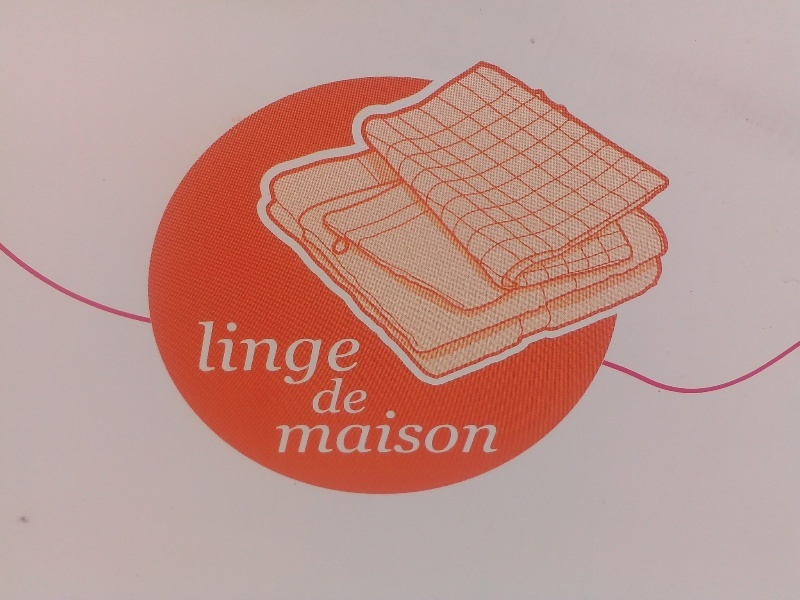text: (209, 320, 224, 396), (225, 320, 240, 396), (241, 320, 256, 396), (257, 320, 272, 396), (273, 320, 288, 396), (289, 320, 304, 396), (305, 320, 320, 396), (321, 320, 336, 396), (337, 320, 352, 396), (353, 320, 368, 396), (198, 320, 208, 396), (289, 410, 304, 455), (305, 410, 320, 455), (321, 410, 336, 455), (337, 410, 352, 455), (353, 410, 368, 455), (369, 410, 384, 455), (385, 410, 400, 455), (401, 410, 416, 455), (417, 410, 432, 455), (433, 410, 448, 455), (449, 410, 464, 455), (465, 410, 480, 455), (481, 410, 496, 455), (353, 378, 369, 415), (337, 378, 352, 415), (323, 378, 336, 415), (278, 410, 288, 455), (497, 410, 505, 455), (369, 320, 370, 396)
